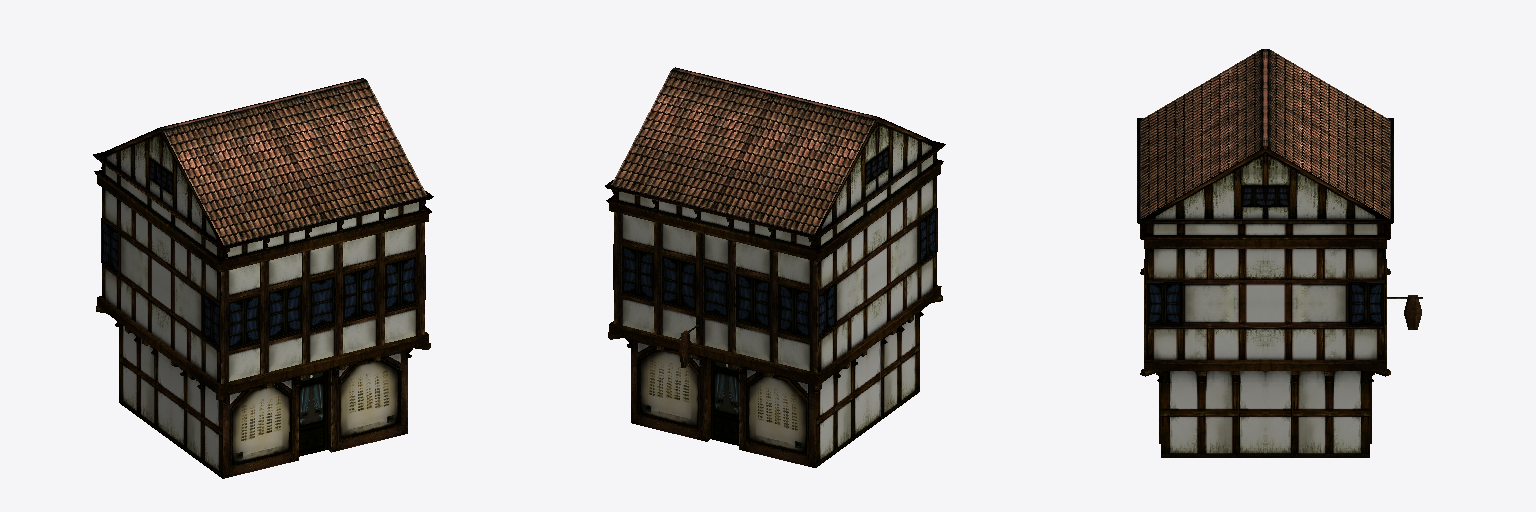
3 views of the same model, side by side, from view 1: azimuth 30°, elevation 25°; view 2: azimuth 150°, elevation 25°; view 3: azimuth 270°, elevation 25° (orthographic).
Visible parts, largest first — view 1: City_building_040; view 2: City_building_040; view 3: City_building_040.
Part boxes in pixels (left/top/right/bottom): City_building_040: left=93, top=78, right=433, bottom=478; City_building_040: left=605, top=67, right=945, bottom=467; City_building_040: left=1137, top=49, right=1422, bottom=457.
Size of the model in its own units: 7.04 by 9.86 by 8.12.
1 materials, 1 textured.